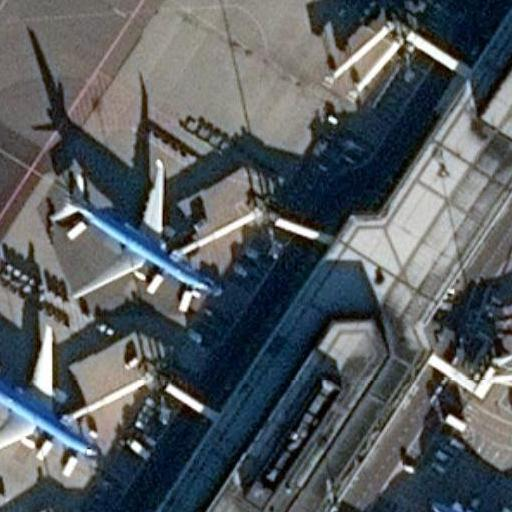Aircraft: (45, 154, 221, 304), (0, 321, 102, 470), (424, 492, 512, 512), (0, 509, 12, 512)
